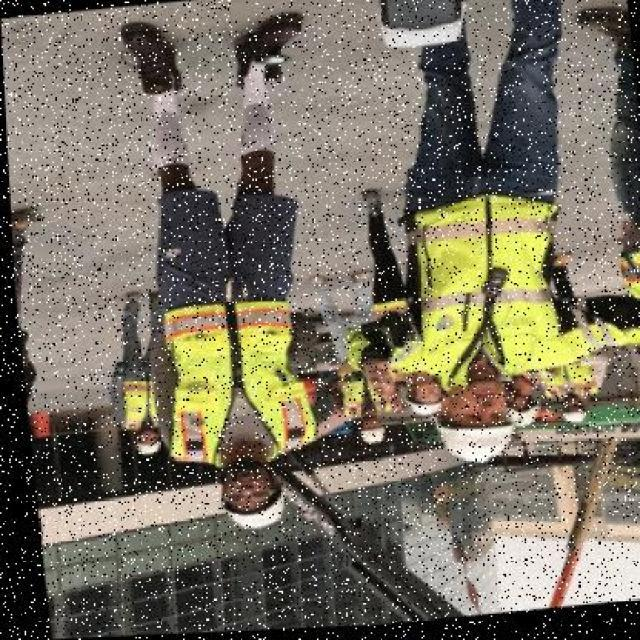helmet: (434, 422, 508, 470), (220, 499, 277, 538)
vest: (388, 183, 566, 387), (145, 277, 313, 465)
